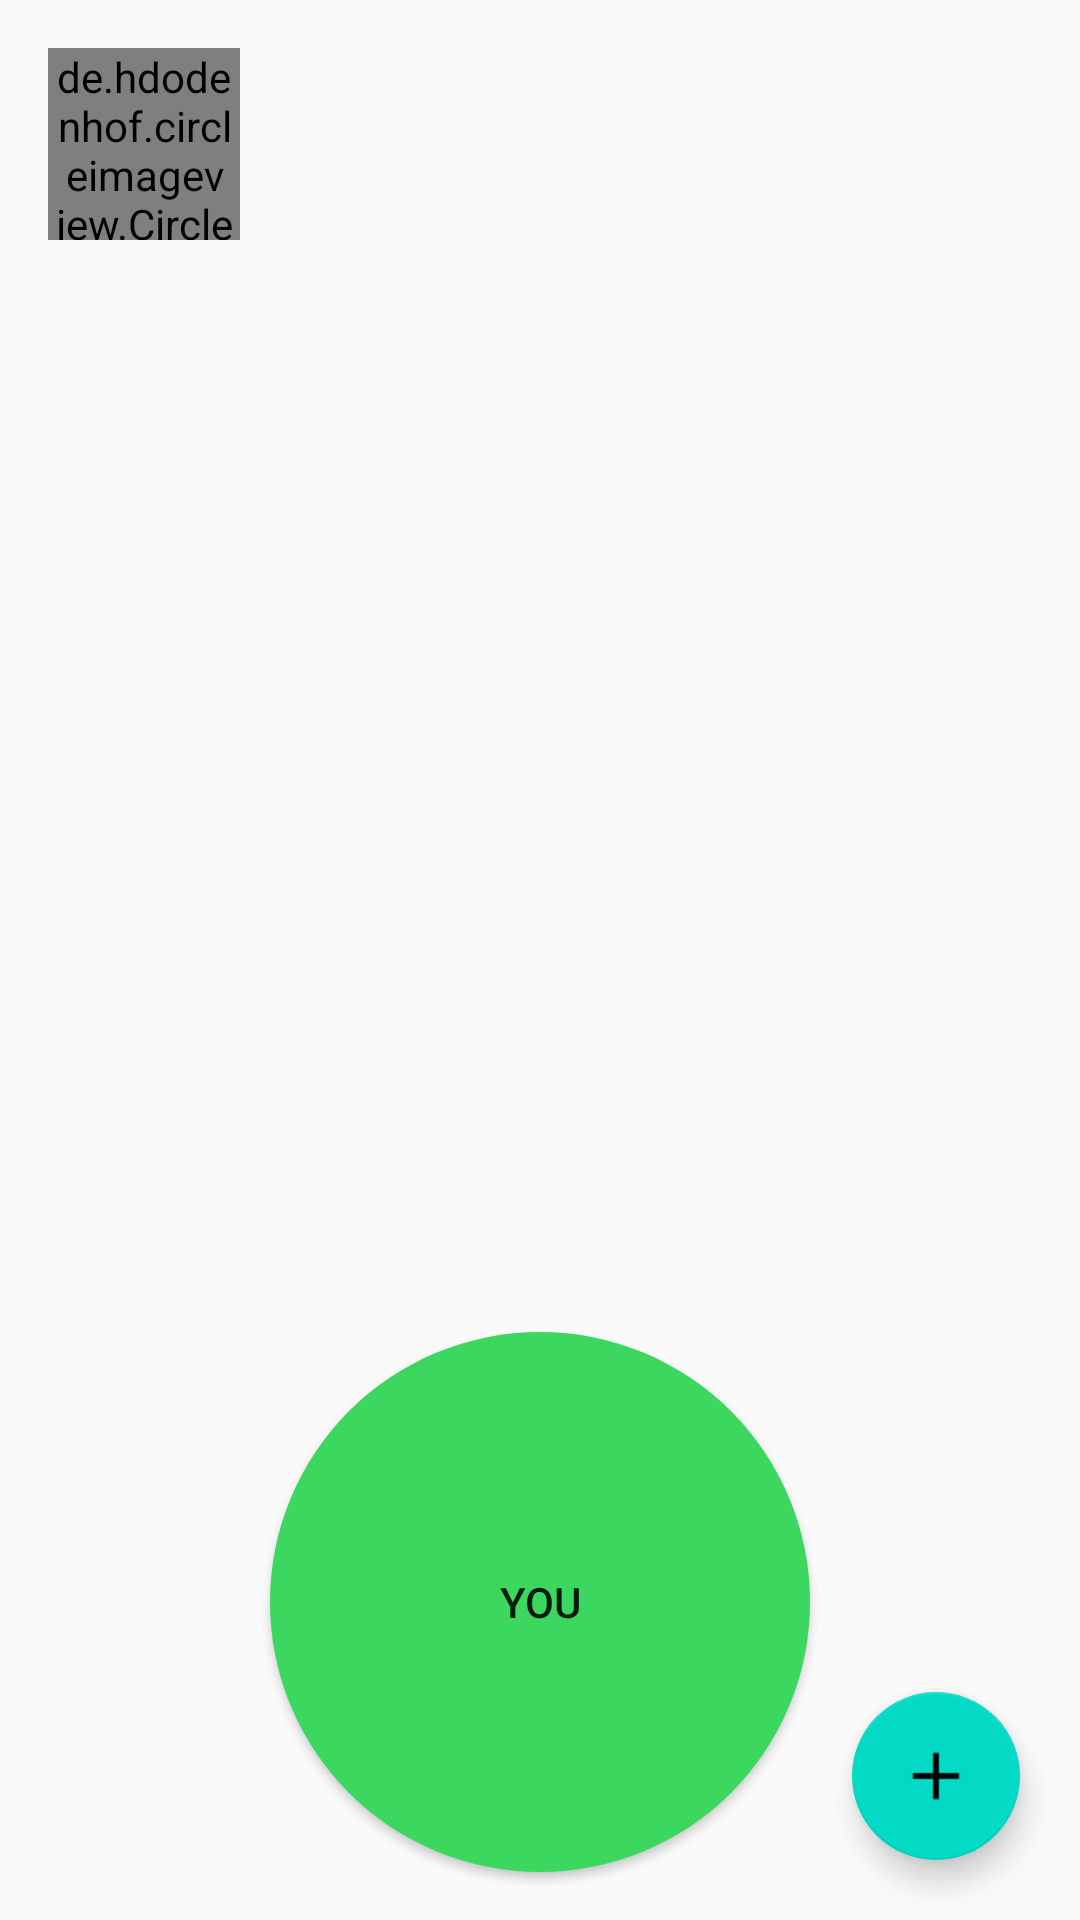

Icon click points for this 1080px x 1920px phone screenshot, format point (x, y):
plus: point (936, 1776)
